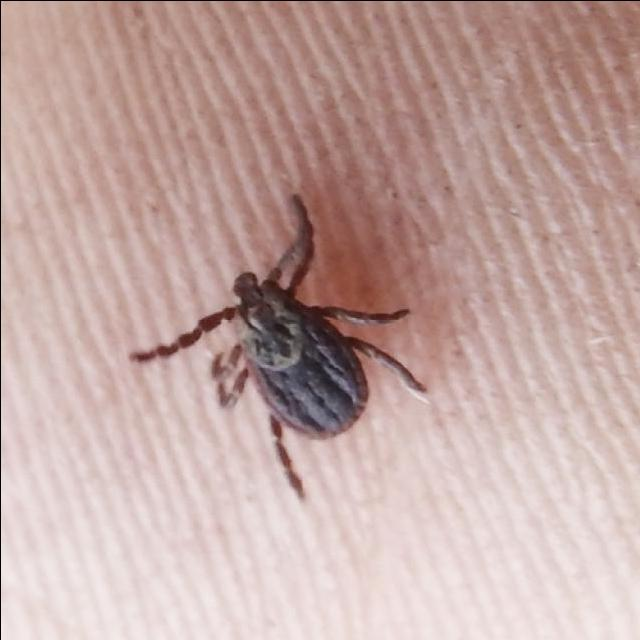Dermacentor Reticulatus-F: (127, 194, 428, 499)
